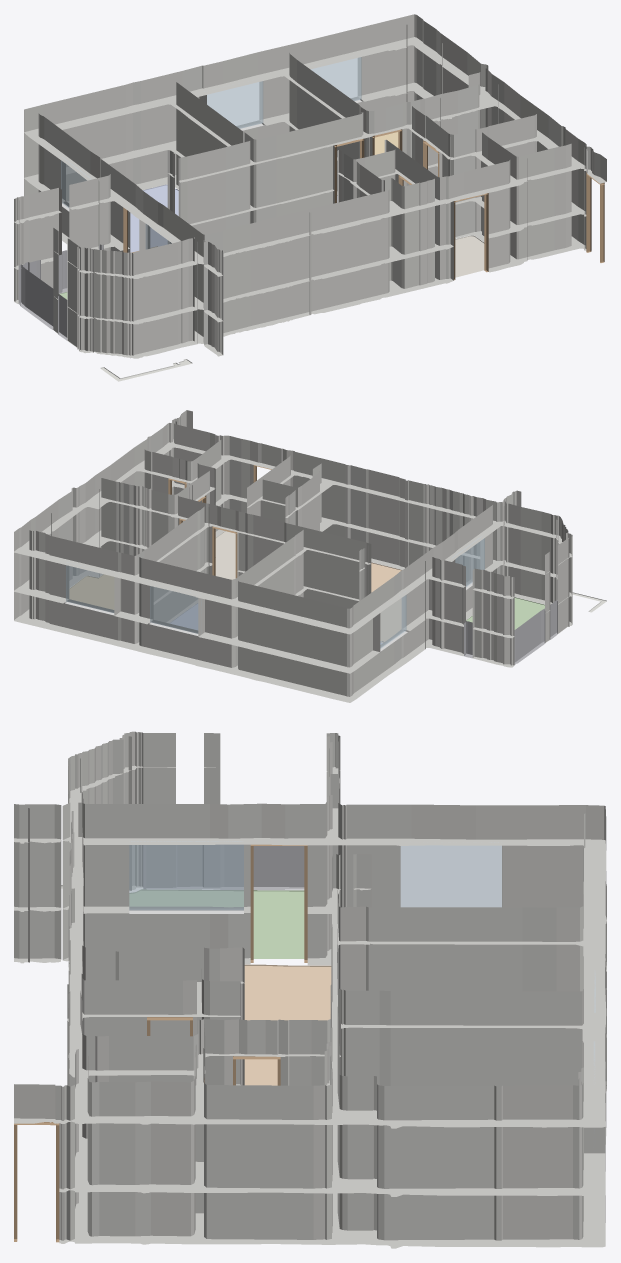
The picture shows the model from 3 angles, top to bottom: view 1: azimuth 30°, elevation 25°; view 2: azimuth 150°, elevation 25°; view 3: azimuth 270°, elevation 25°; orthographic projection. The views are drawn at different scales.
Parts seen in each view (by area): view 1: walls, railings, window_8, window_9, floor_9_Entry, floor_6_Bed_Room, door_7, door_6, window_10; view 2: walls, window_8, window_9, railings, floor_3_Living_Room, floor_2_Kitchen, window_10, floor_9_Entry, window_11, floor_0_Outdoor, floor_5_Bed_Room; view 3: walls, window_11, railings, window_10, floor_3_Living_Room, floor_0_Outdoor, door_7, door_2, sill_11.
Part boxes in pixels (bbox=[...]): walls: bbox=[14, 14, 606, 358]; railings: bbox=[18, 244, 103, 340]; window_8: bbox=[203, 81, 263, 128]; window_9: bbox=[311, 57, 361, 100]; floor_9_Entry: bbox=[455, 235, 484, 277]; floor_6_Bed_Room: bbox=[130, 184, 178, 252]; door_7: bbox=[586, 172, 604, 262]; door_6: bbox=[454, 193, 488, 280]; window_10: bbox=[61, 157, 91, 207]; walls: bbox=[14, 410, 572, 702]; window_8: bbox=[150, 586, 201, 633]; window_9: bbox=[66, 562, 114, 612]; railings: bbox=[462, 599, 557, 664]; floor_3_Living_Room: bbox=[371, 562, 401, 642]; floor_2_Kitchen: bbox=[69, 574, 113, 609]; window_10: bbox=[380, 591, 406, 648]; floor_9_Entry: bbox=[215, 531, 235, 579]; window_11: bbox=[452, 536, 484, 586]; floor_0_Outdoor: bbox=[466, 597, 544, 629]; floor_5_Bed_Room: bbox=[169, 603, 197, 629]; walls: bbox=[14, 731, 606, 1248]; window_11: bbox=[129, 841, 243, 910]; railings: bbox=[143, 845, 304, 889]; window_10: bbox=[400, 842, 501, 907]; floor_3_Living_Room: bbox=[244, 964, 331, 1085]; floor_0_Outdoor: bbox=[129, 889, 304, 958]; door_7: bbox=[14, 1122, 59, 1242]; door_2: bbox=[250, 844, 307, 962]; sill_11: bbox=[129, 908, 243, 913].
Size of the model in its own units: 13.66 by 2.72 by 9.41.
